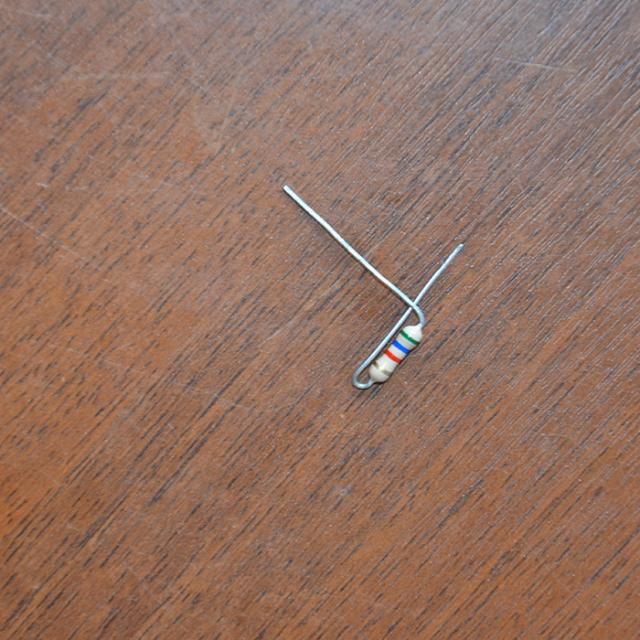blue: (390, 341, 409, 353)
gold: (372, 362, 390, 376)
green: (398, 328, 418, 345)
red: (383, 349, 401, 363)
resistor: (364, 309, 434, 389)
